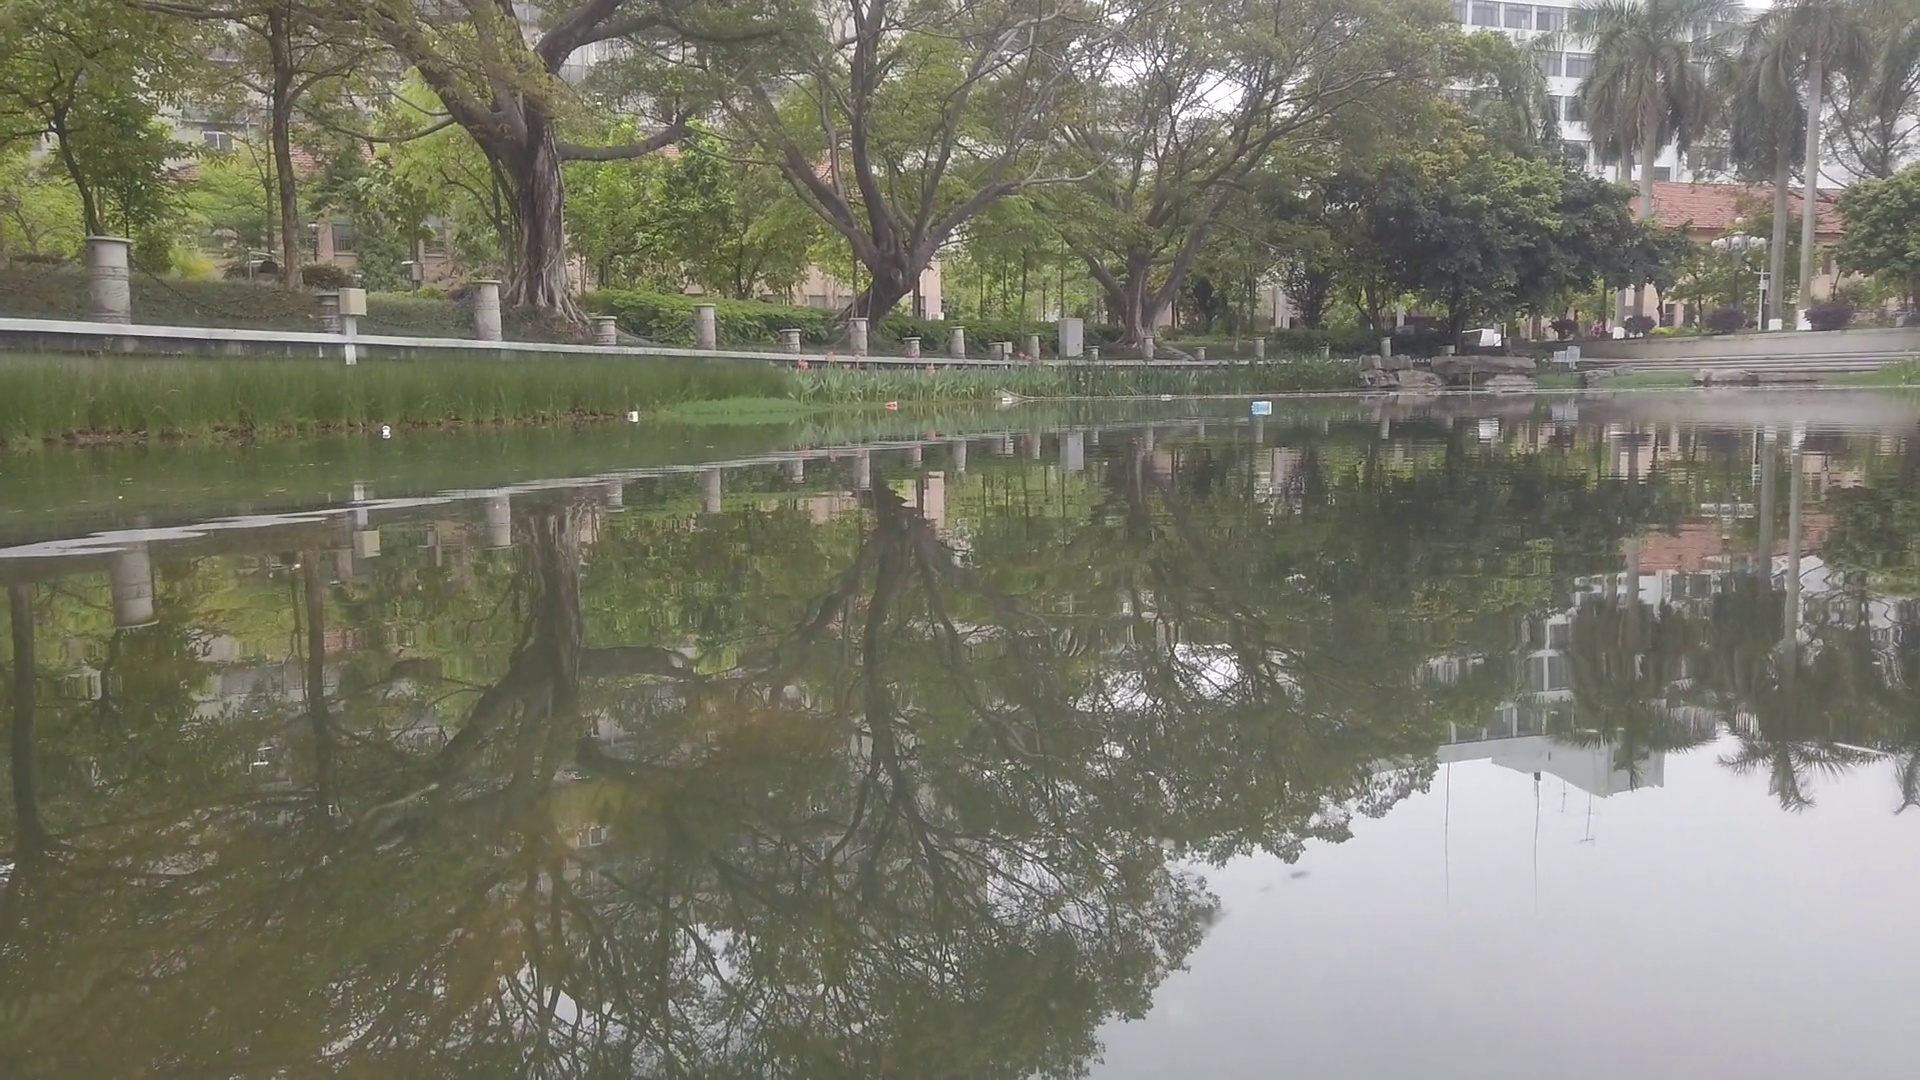bottle: (380, 425, 390, 436), (885, 400, 898, 407), (1002, 396, 1013, 404), (1160, 394, 1172, 400)
carton: (1251, 400, 1274, 415), (626, 411, 640, 422)
